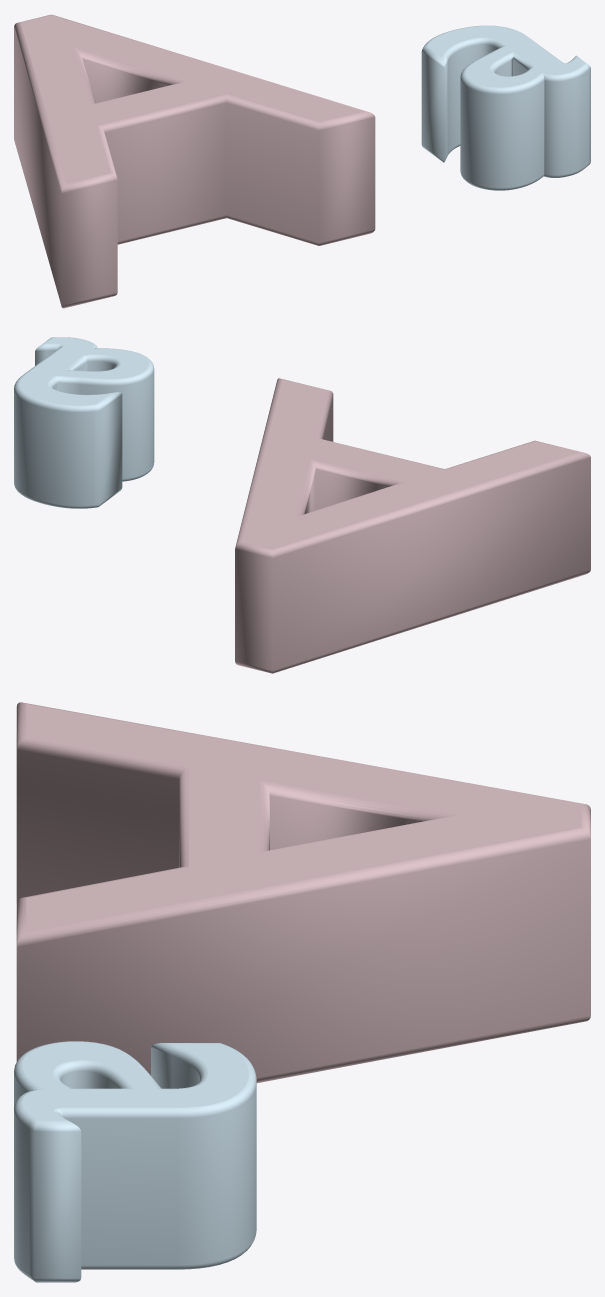
Rendered from vocales_A.glb.
The picture shows the model from 3 angles, top to bottom: view 1: azimuth 30°, elevation 25°; view 2: azimuth 150°, elevation 25°; view 3: azimuth 270°, elevation 25°; orthographic projection. The views are drawn at different scales.
Visible parts, largest first — view 1: A_Mayuscula, a_minuscula; view 2: A_Mayuscula, a_minuscula; view 3: A_Mayuscula, a_minuscula.
Part boxes in pixels (bbox=[...]): A_Mayuscula: bbox=[14, 14, 375, 308]; a_minuscula: bbox=[421, 25, 590, 190]; A_Mayuscula: bbox=[235, 378, 590, 673]; a_minuscula: bbox=[14, 337, 154, 508]; A_Mayuscula: bbox=[16, 702, 590, 1083]; a_minuscula: bbox=[14, 1041, 256, 1282].
Size of the model in its own units: 3 by 0.66 by 1.78.
